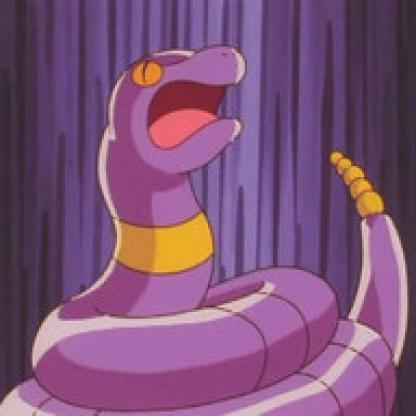Ekans: (1, 39, 415, 415)
